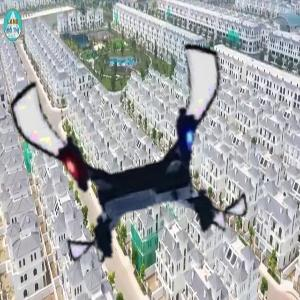drone: (20, 44, 241, 265)
